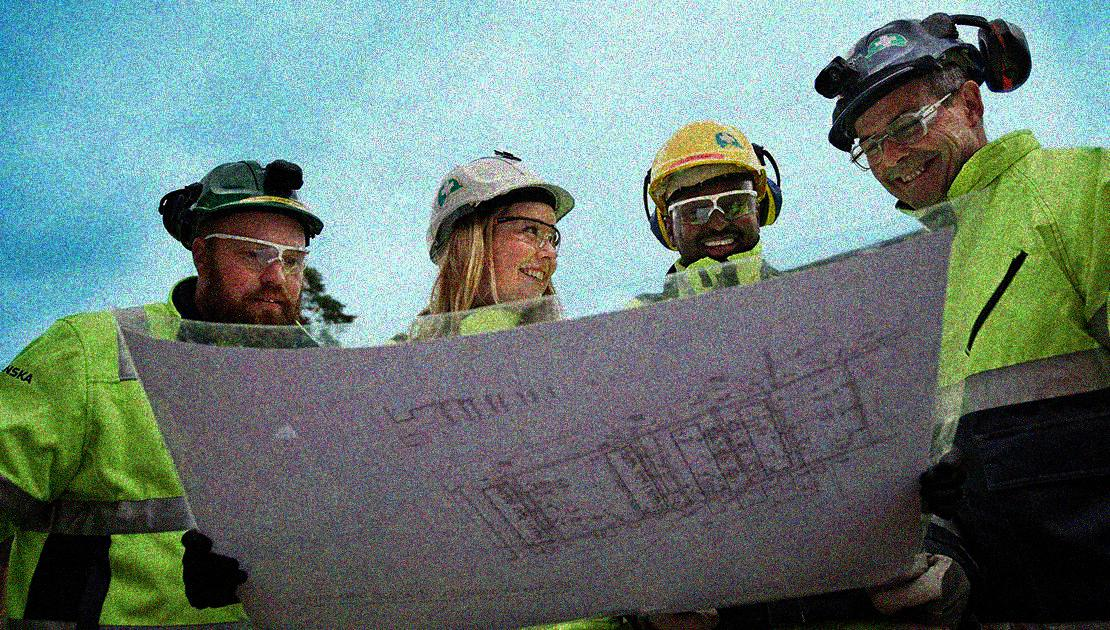helmet: (824, 14, 986, 204), (184, 157, 329, 330), (422, 152, 579, 296), (639, 123, 783, 262)
